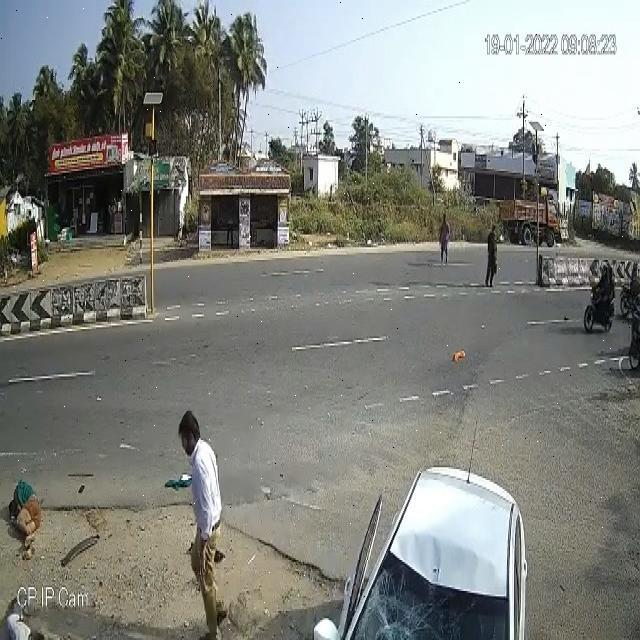accident: (339, 474, 532, 640), (3, 458, 46, 562)
